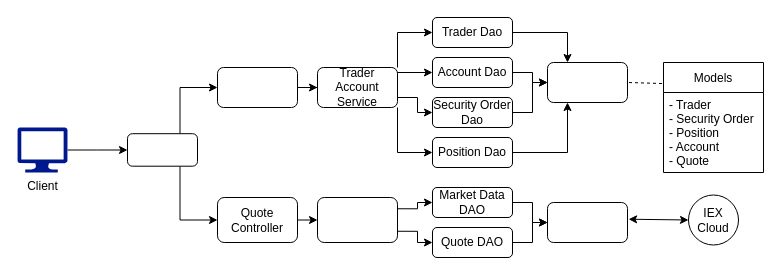
This 781x275 diagram has some shape labels left out. The centre of each missing label's shape, as x and y in pixels:
Data Source (JDBC): the point at 587,82
Http Client: the point at 587,222
Quote Service: the point at 357,219
Trader Account Controller: the point at 257,87
Webservlet Controller: the point at 162,149
